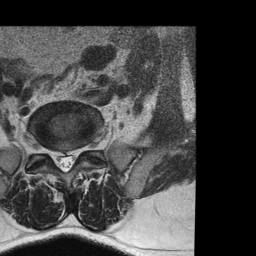CCS_normal: (61, 141, 69, 175)
LFS_stenosis: (78, 139, 87, 157)
LLS_normal: (69, 143, 78, 167)
RFS_stenosis: (43, 141, 53, 162)
RLS_normal: (53, 144, 61, 170)
